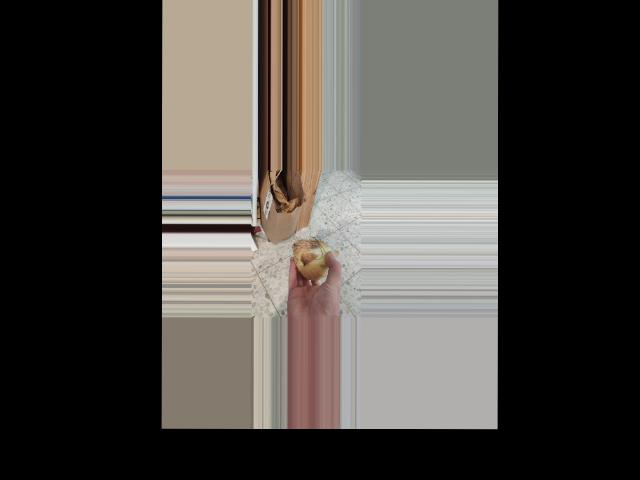onion: (291, 237, 339, 282)
